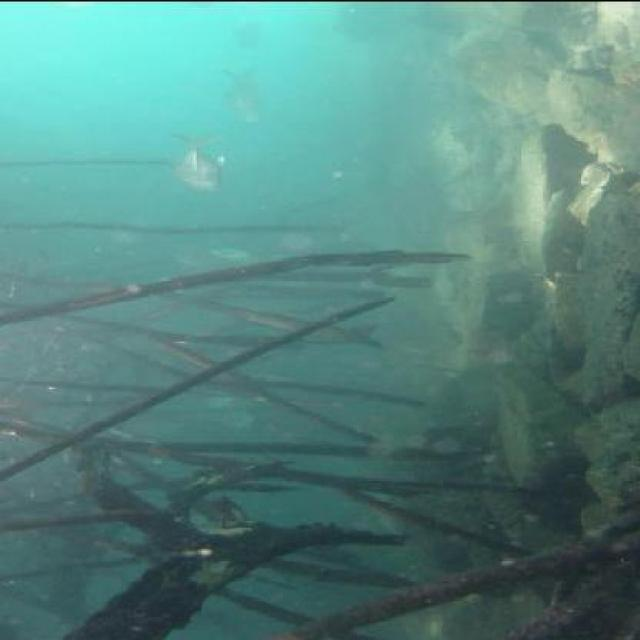Caranx_sexfasciatus_juvenile: (164, 134, 242, 195), (218, 65, 279, 120), (213, 248, 278, 270), (168, 242, 222, 267)
